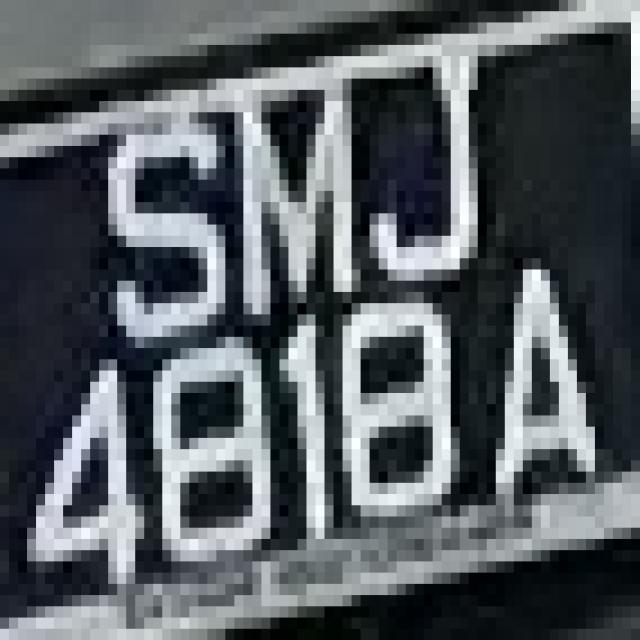1: (252, 258, 360, 562)
4: (0, 326, 153, 606)
8: (126, 280, 289, 572), (316, 247, 468, 550)
A: (451, 202, 622, 573)
J: (351, 34, 523, 280)
M: (180, 34, 379, 337)
S: (81, 56, 234, 359)
